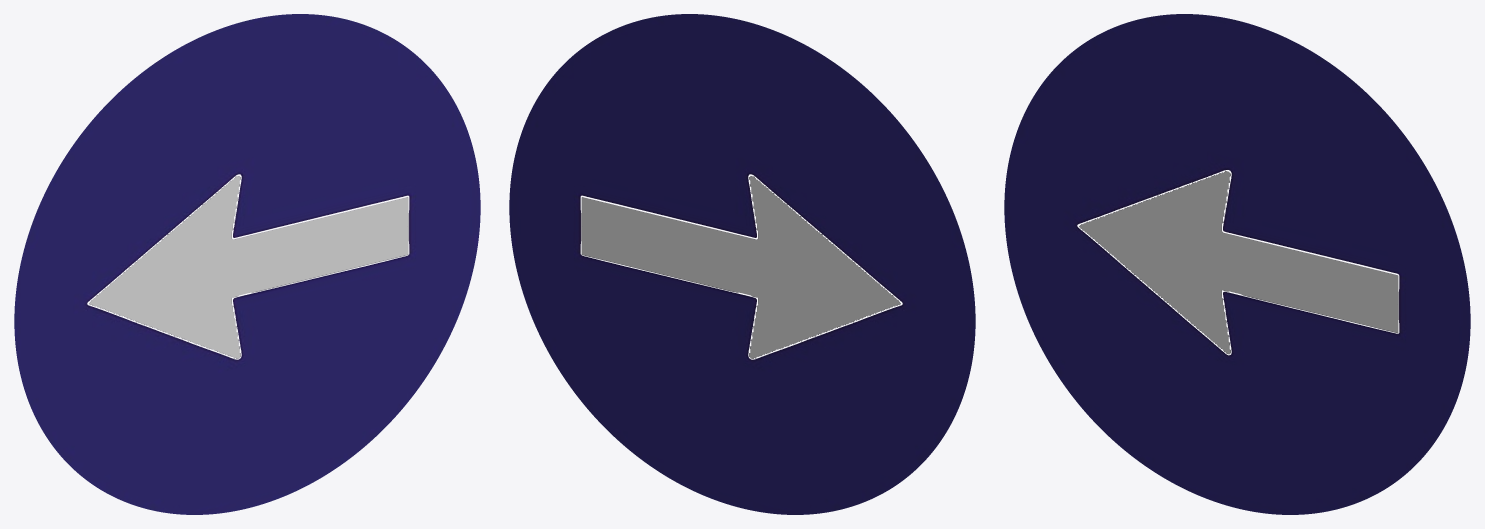
Rendered from sola-mecburi-yon.dae.
3 renders of one model, left to right at view 1: azimuth 30°, elevation 25°; view 2: azimuth 150°, elevation 25°; view 3: azimuth 330°, elevation 25°, orthographic.
Visible parts, largest first — view 1: Circle; view 2: Circle; view 3: Circle.
Part boxes in pixels (x1=…): Circle: x1=14, y1=14, x2=480, y2=514; Circle: x1=509, y1=14, x2=975, y2=514; Circle: x1=1004, y1=14, x2=1470, y2=514.
Size of the model in its own units: 0.24 by 1.05e-08 by 0.24.
1 material, 1 textured.
